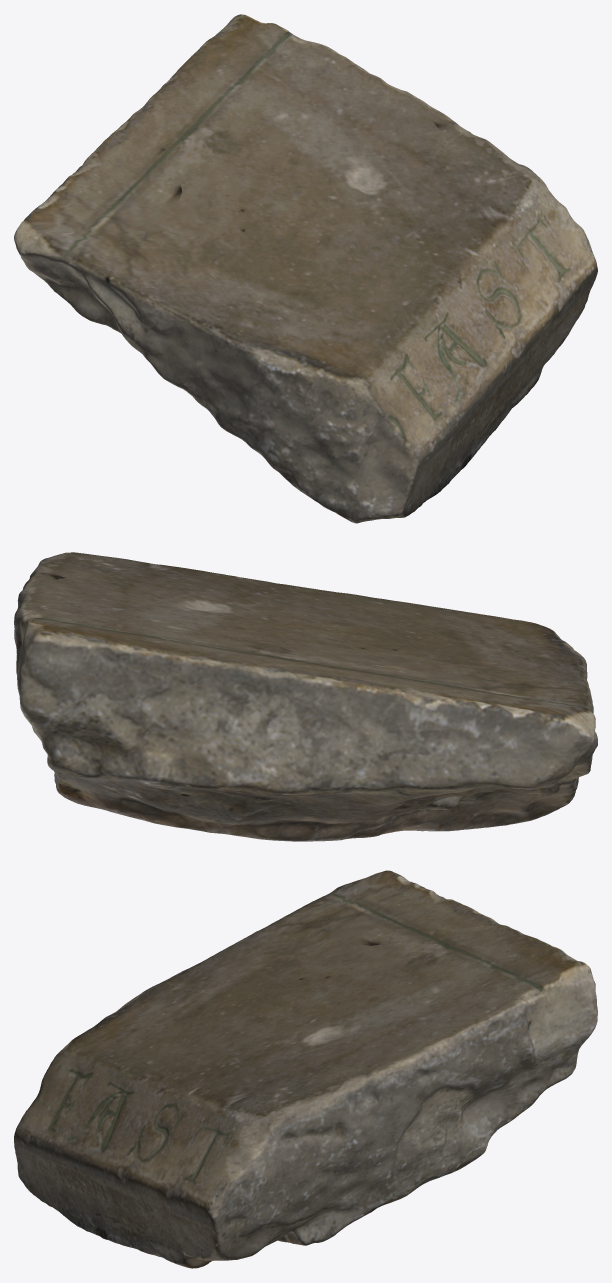
File: Tombstone4.glb
3 views of the same model, one above another, from view 1: azimuth 30°, elevation 25°; view 2: azimuth 150°, elevation 25°; view 3: azimuth 270°, elevation 25° (orthographic). The views are drawn at different scales.
Parts seen in each view (by area): view 1: object; view 2: object; view 3: object.
Boxes of the visible parts, bbox=[...] form: object: bbox=[14, 14, 597, 523]; object: bbox=[14, 552, 597, 841]; object: bbox=[14, 870, 597, 1268].
Size of the model in its own units: 316 by 172 by 314.
Materials: 1 (1 with a texture image).
